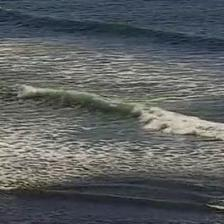surfer: (56, 0, 65, 2)
